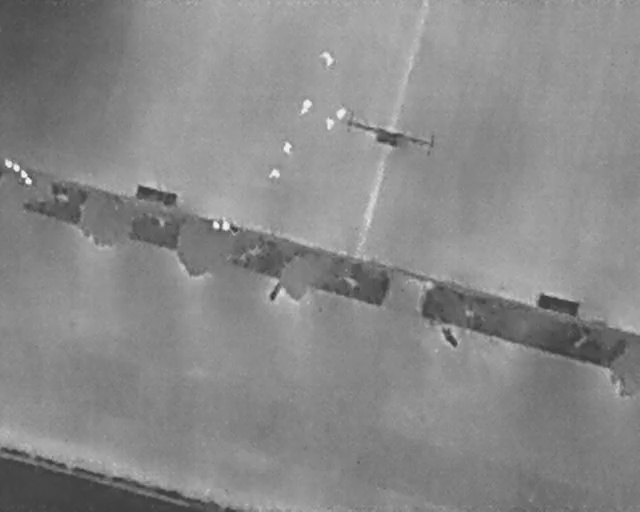Car: (299, 96, 313, 117), (321, 52, 335, 69), (281, 141, 293, 155), (336, 106, 347, 121), (325, 117, 336, 131), (269, 167, 280, 179)
